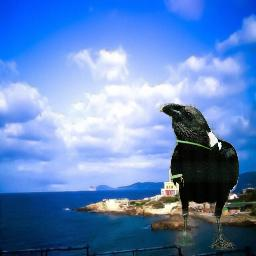Crow: (158, 103, 239, 250)
